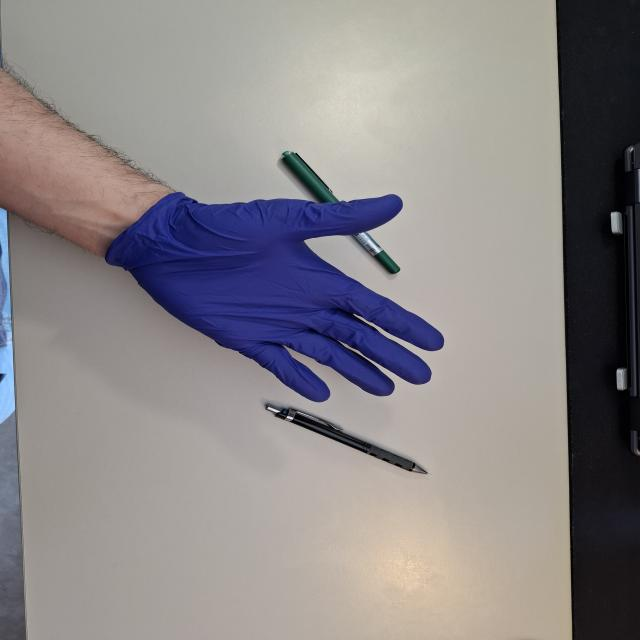glove_on: (110, 187, 439, 387)
